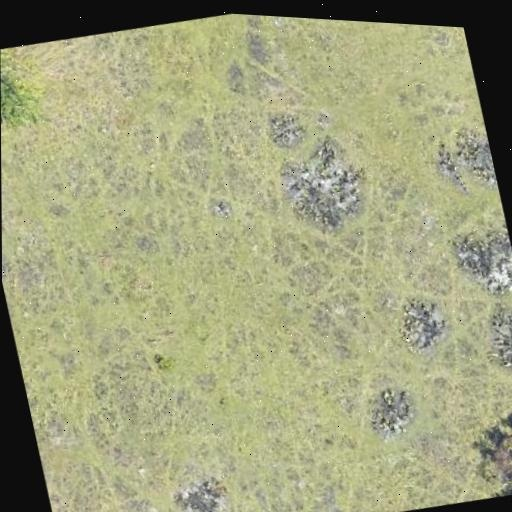tree-top: (0, 41, 52, 139), (468, 410, 512, 500)
